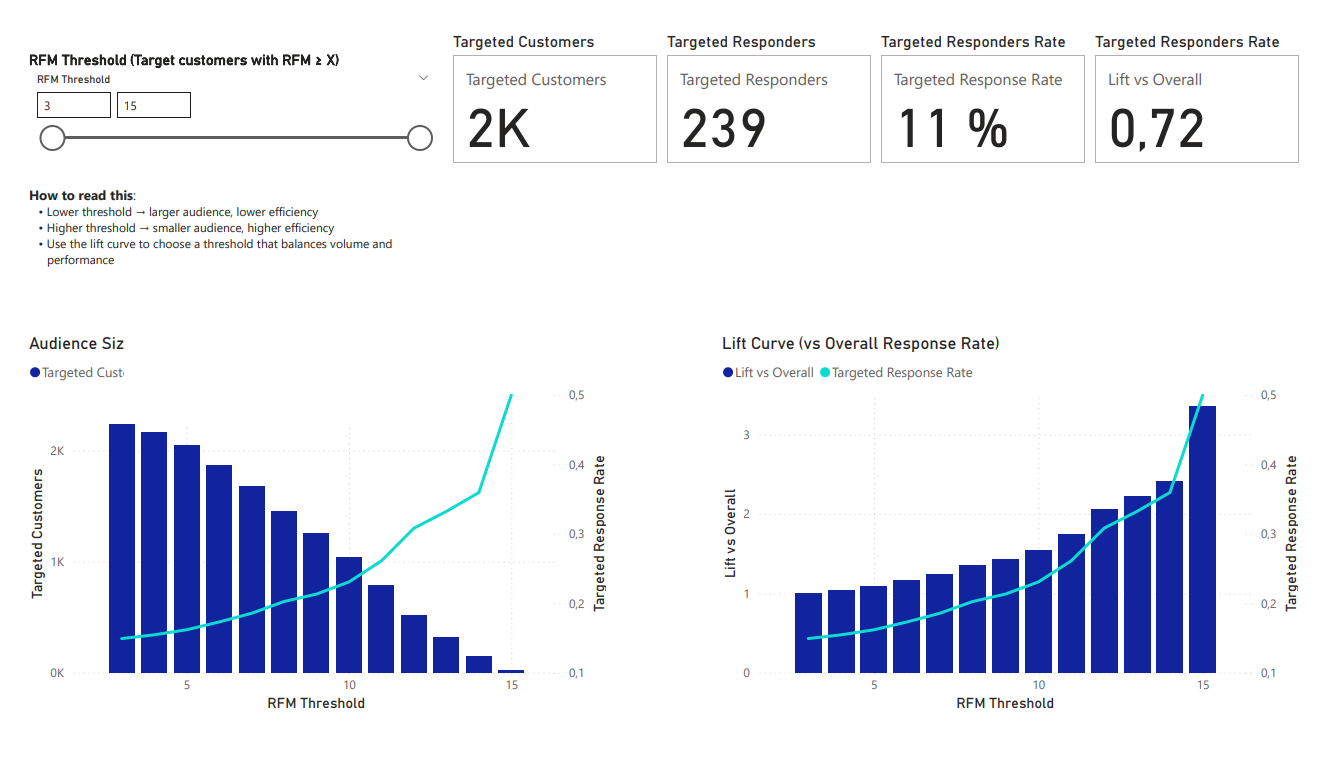

The page's visual inventory and layout, read from the dashboard file:
{"tool":"powerbi","page":{"name":"Targeting Simulator","canvas":[1280,720],"ordinal":3},"visuals":[{"type":"cardVisual","title":"Targeted Customers","fields":{"Data":["Customer.Targeted Customers"]},"box":[424,8.2,214,136],"z":0},{"type":"cardVisual","title":"Targeted Responders","fields":{"Data":["Customer.Targeted Responders"]},"box":[638,8.2,214,136],"z":1000},{"type":"cardVisual","title":"Targeted Responders Rate","fields":{"Data":["Customer.Targeted Response Rate"]},"box":[852,8.2,214,136],"z":2000},{"type":"cardVisual","title":"Targeted Responders Rate","fields":{"Data":["Customer.Lift vs Overall"]},"box":[1065.6,8.2,214,136],"z":3000},{"type":"slicer","title":"RFM Threshold (Target customers with RFM ≥ X)","fields":{"Values":["RFM_Threshold.RFM Threshold"]},"box":[0,28.1,417.1,128.8],"z":4000},{"type":"lineClusteredColumnComboChart","title":"Audience Size vs Target Response","fields":{"Category":["RFM_Threshold.RFM Threshold"],"Y":["Customer.Targeted Customers"],"Y2":["Customer.Targeted Response Rate"]},"box":[0,309.2,586.7,382.7],"z":5000},{"type":"lineClusteredColumnComboChart","title":"Lift Curve (vs Overall Response Rate)","fields":{"Category":["RFM_Threshold.RFM Threshold"],"Y2":["Customer.Targeted Response Rate"],"Y":["Customer.Lift vs Overall"]},"box":[692.8,309.2,586.7,382.7],"z":6000},{"type":"textbox","box":[99.7,307.4,300.2,92.5],"z":7000},{"type":"textbox","box":[0,156.9,399.9,97],"z":7001}]}

Visuals, with their boxes in screenshot pixels (x1, y1, x2, y2), scaled from the page's 1280x720 canvas onto the 1327x763 screenshot:
"Targeted Customers" cardVisual: 440/9/661/153
"Targeted Responders" cardVisual: 661/9/883/153
"Targeted Responders Rate" cardVisual: 883/9/1105/153
"Targeted Responders Rate" cardVisual: 1105/9/1326/153
"RFM Threshold (Target customers with RFM ≥ X)" slicer: 0/30/432/166
"Audience Size vs Target Response" lineClusteredColumnComboChart: 0/328/608/733
"Lift Curve (vs Overall Response Rate)" lineClusteredColumnComboChart: 718/328/1326/733
textbox: 103/326/415/424
textbox: 0/166/415/269
